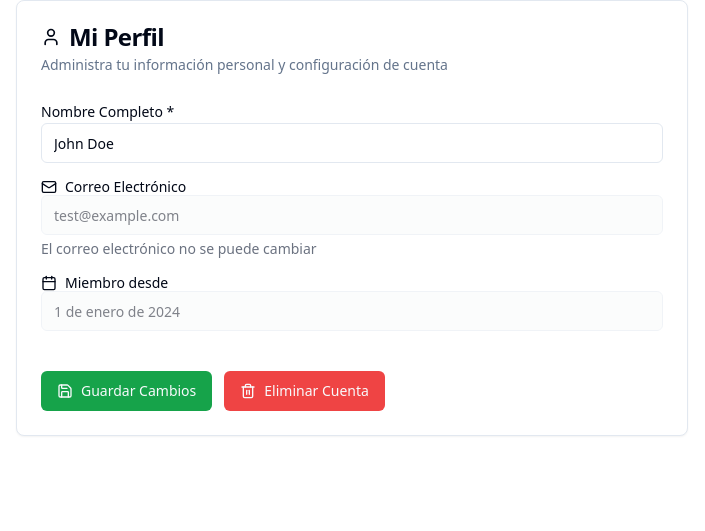
CustomerProfilePage › successfully updates customer profile
The image size is (705, 531).
Replace the text in the field labelled "Nombre Completo *" with "Jane Doe" at x=352, y=143, box [41,123,663,163]
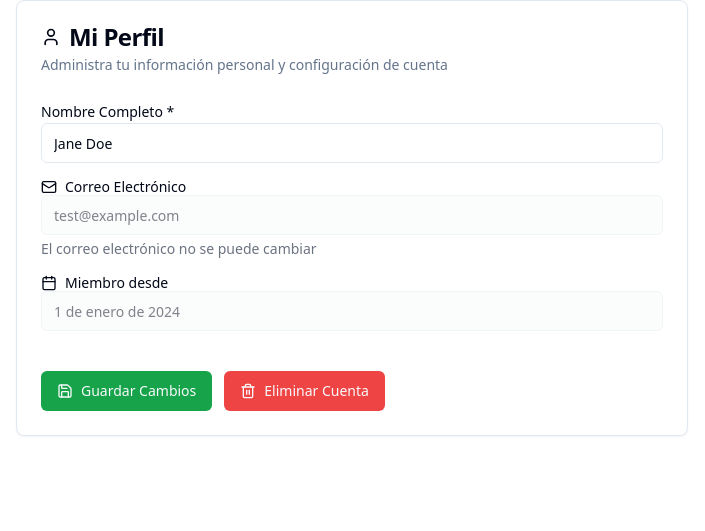
Click the button "Guardar Cambios" at x=127, y=391, box [41,371,212,411]
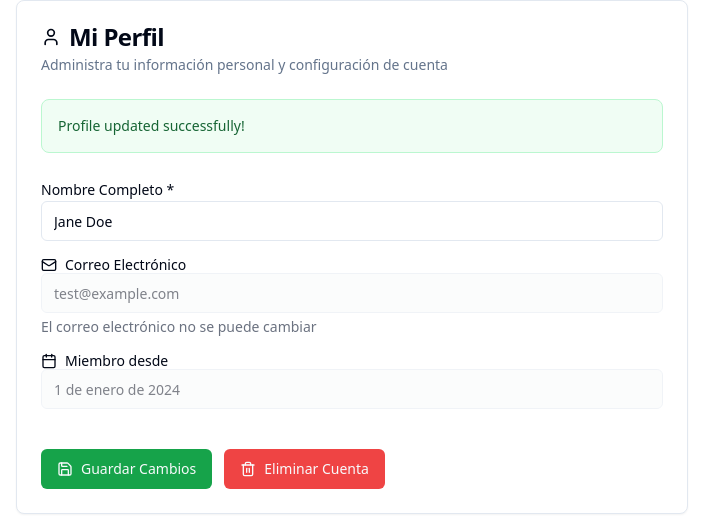
Now the text "Profile updated successfully!" is shown, box [58,116,245,135]
